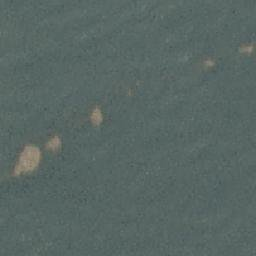debris: (12, 146, 39, 177), (43, 135, 64, 159), (89, 106, 103, 127), (236, 44, 255, 56), (203, 59, 214, 69)
